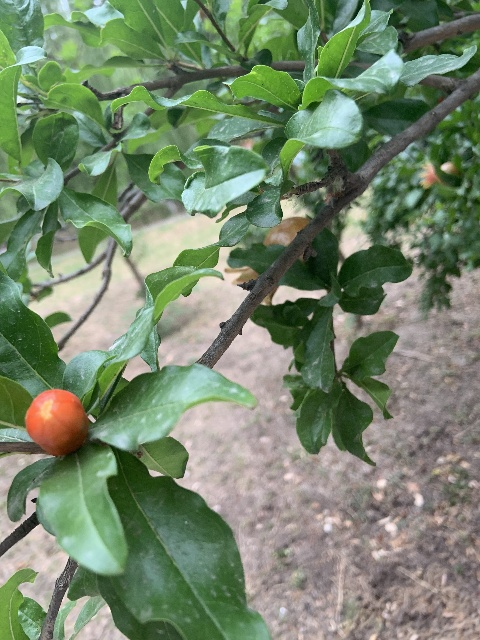bud: (25, 388, 88, 456)
early-fruit: (223, 216, 312, 303)
